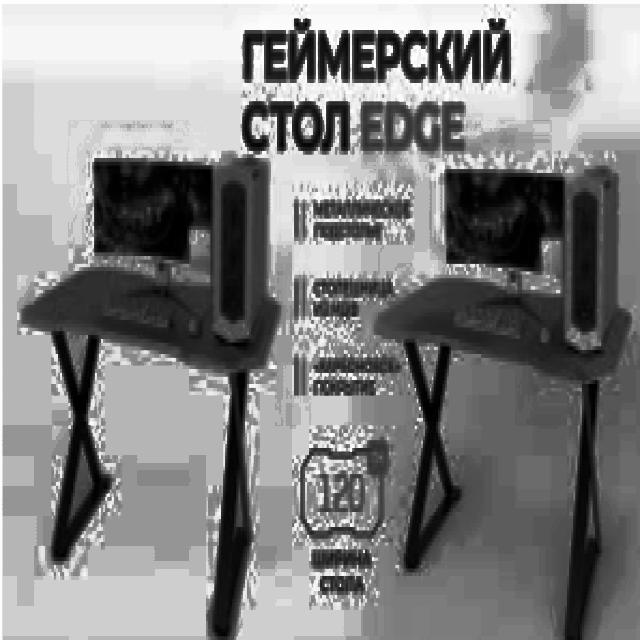table: (22, 260, 279, 632), (376, 271, 629, 636)
